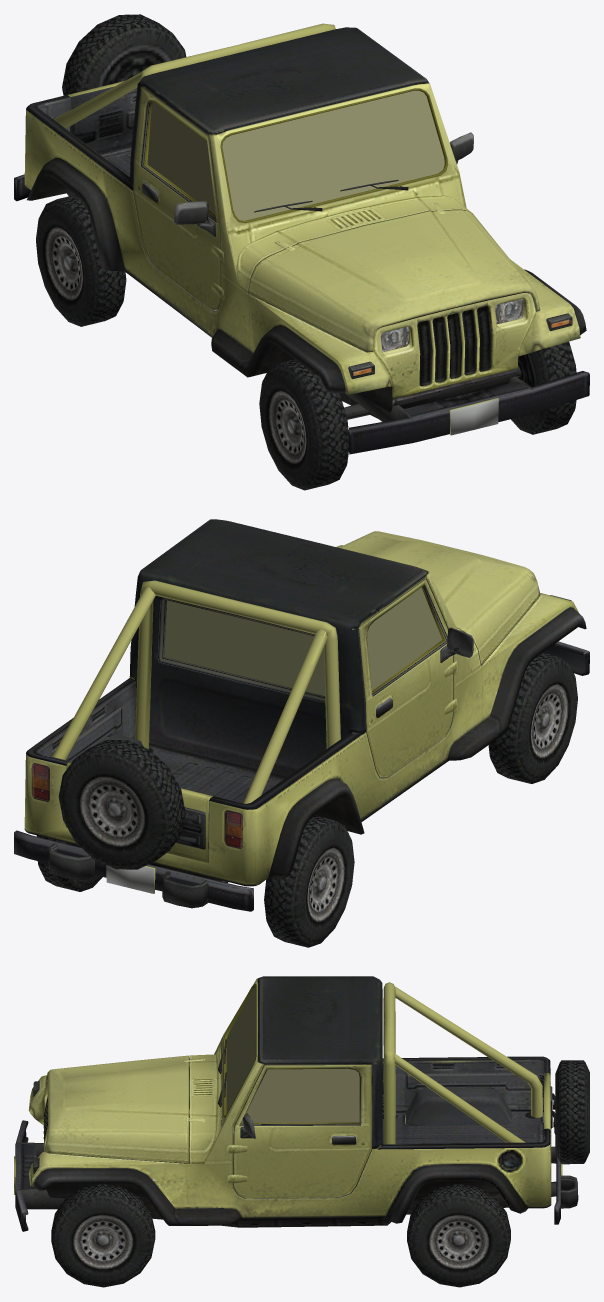
The model's file is Jeep.obj.
3 renders of one model, top to bottom at view 1: azimuth 30°, elevation 25°; view 2: azimuth 150°, elevation 25°; view 3: azimuth 270°, elevation 25°, orthographic. The views are drawn at different scales.
Visible parts, largest first — view 1: Jeep; view 2: Jeep; view 3: Jeep.
Part boxes in pixels (box(x1,y1,x2,y2)): Jeep: box(14, 14, 589, 490); Jeep: box(14, 519, 589, 947); Jeep: box(14, 976, 589, 1287).
Bounding box in the file's own units: 1.83 × 1.64 × 3.85.
2 materials, 2 textured.
